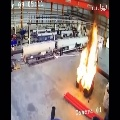fire: (76, 21, 98, 90)
